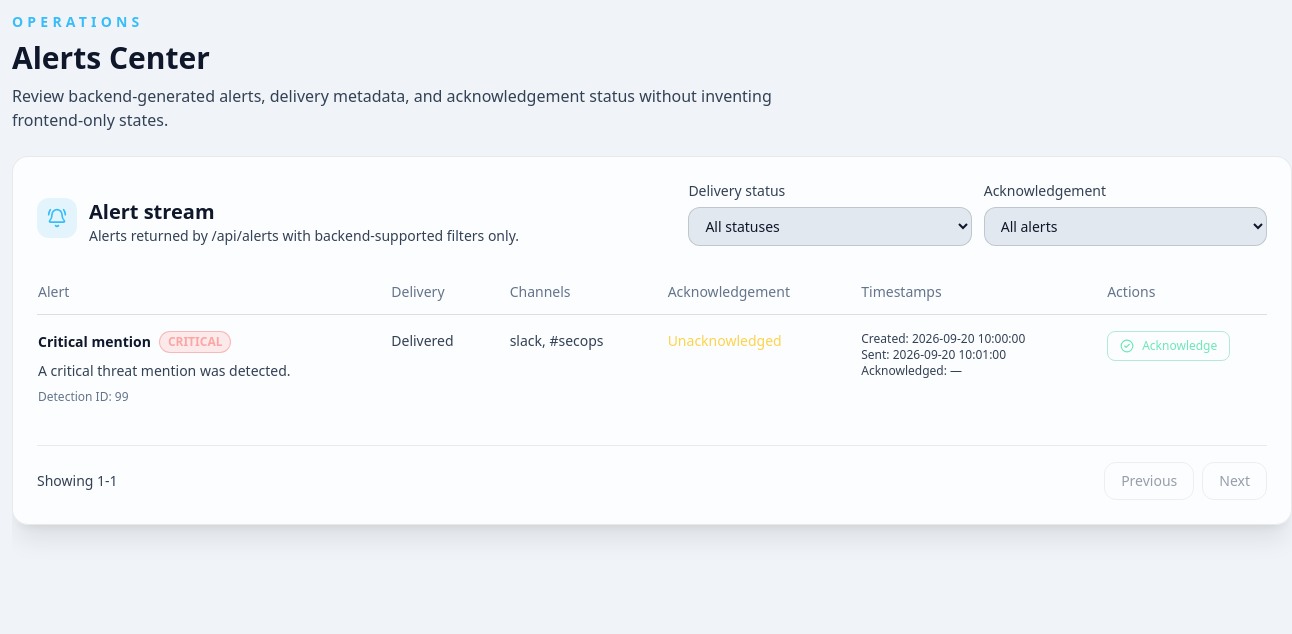
Test: AlertsPage › shows acknowledge only with alerts:write and refreshes after success
This screenshot has width=1292, height=634.
Click the button "Acknowledge": x=1169, y=346 [1107,331,1230,361]
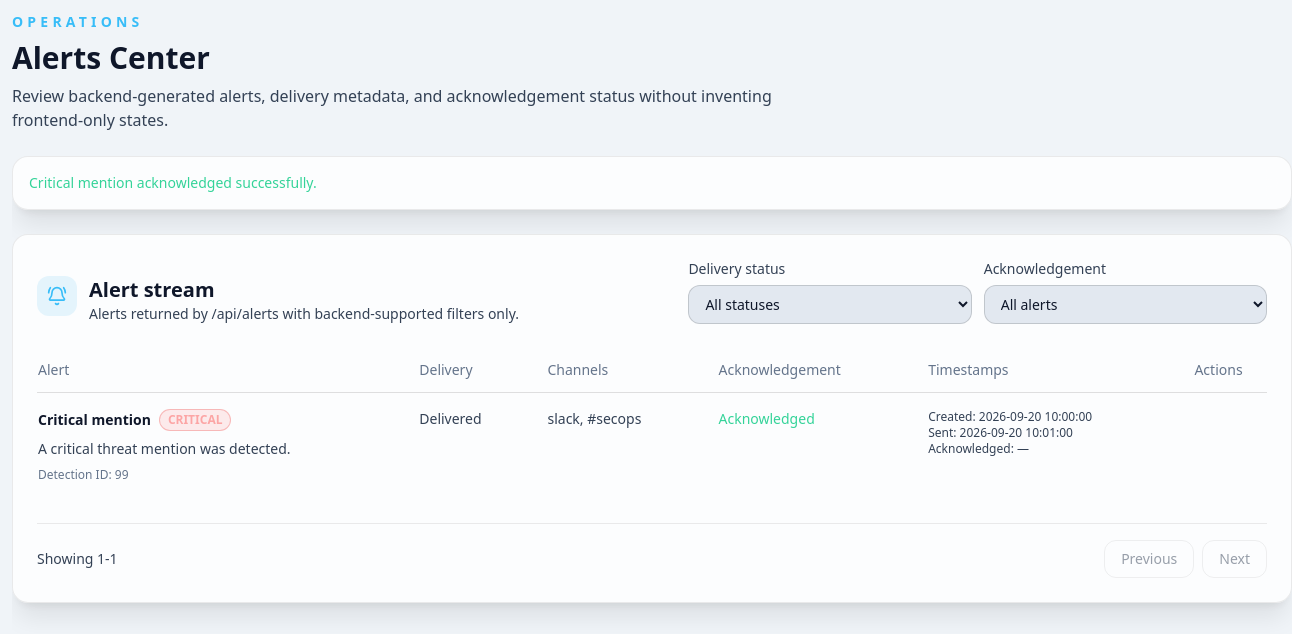
Result: the message reads "Critical mention acknowledged successfully." at [29,173,317,192]
